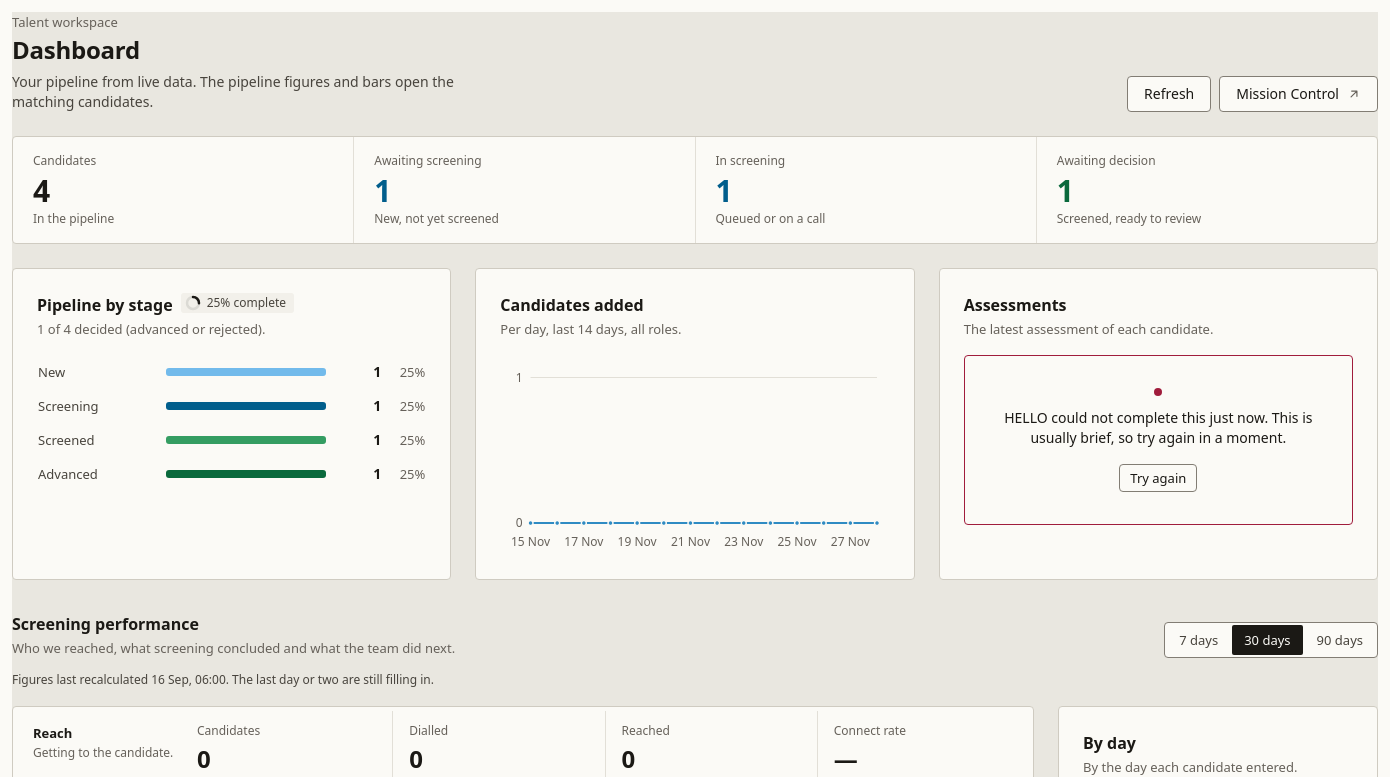
Test: DashboardPage › a read that fails stays in its own panels › a summary failure stays in the Assessments panel, whose Retry reloads only the summary
Expected: the message shows "HELLO could not complete this just now. This is usually brief, so try again in a moment.", [1004, 408, 1312, 447]
Expected: the number of messages is 1, [964, 355, 1353, 525]
Click the button "Try again" at (1158, 478), box [1119, 464, 1197, 492]
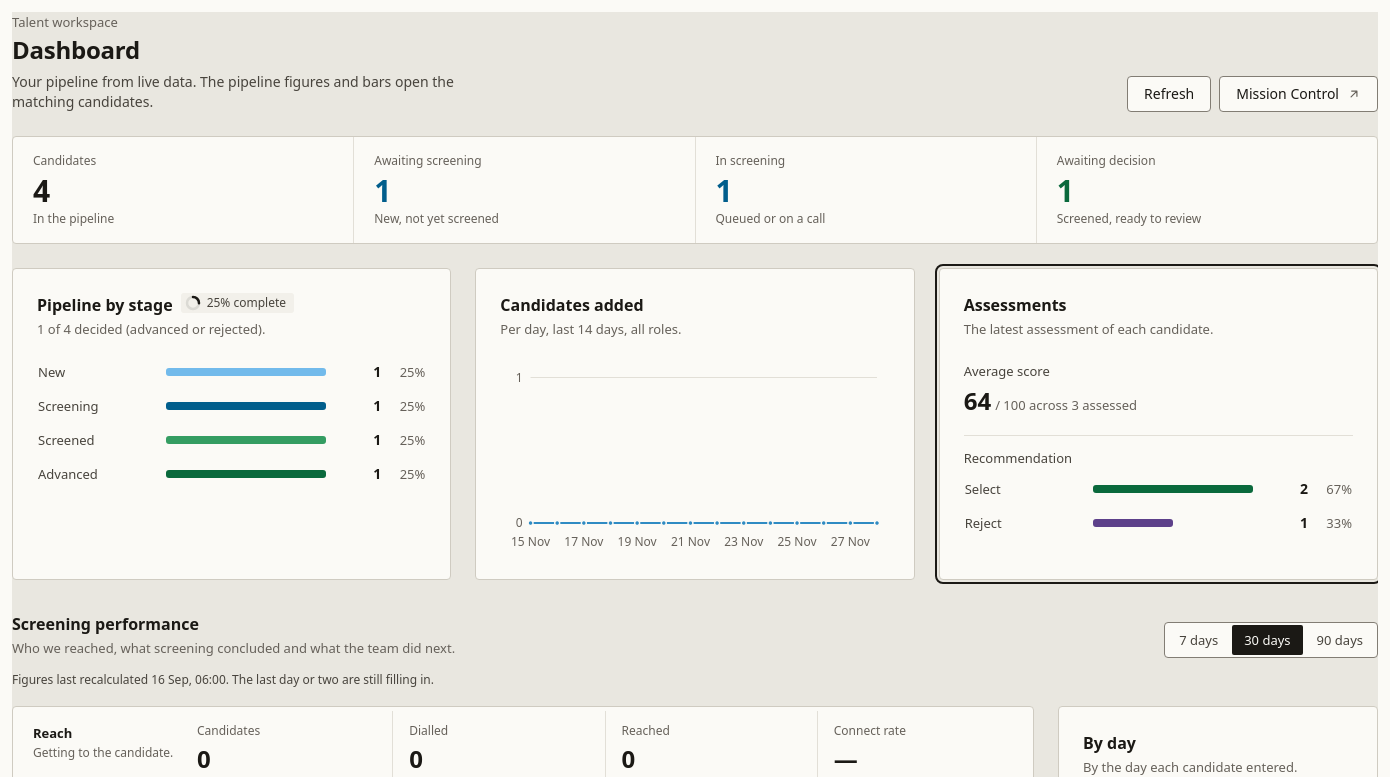
Expected: the link with aria-label "Candidates: 4" is shown, [33, 152, 114, 227]
Now the link with aria-label "average assessment score 64" is shown, box [964, 362, 1137, 417]
Now the message is gone
